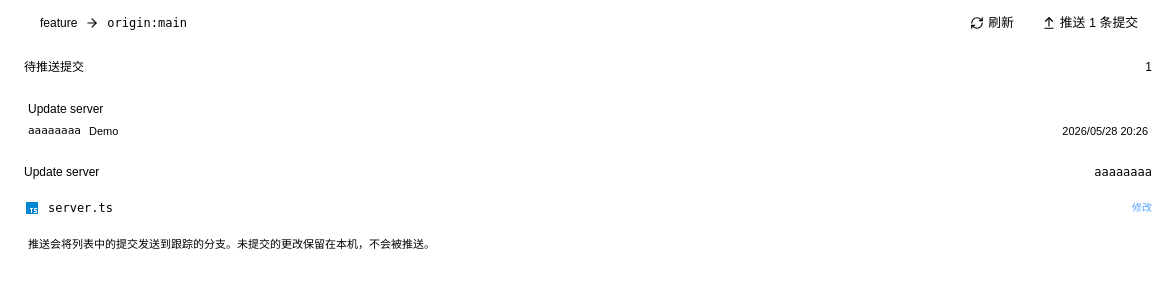
moves files into the commit column, compares committed revisions, and restores the list in zh
The width and height of the screenshot is (1176, 302).
Click the button "server.ts 修改".
click(81, 208)  # box [12,192,1164,224]
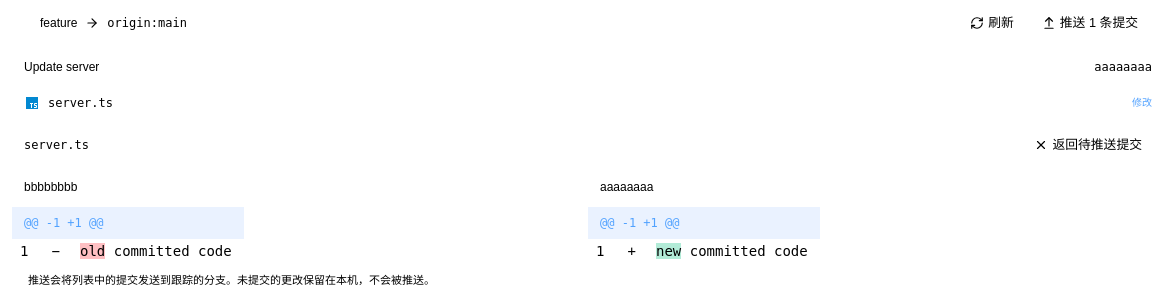
Check: the text "aaaaaaaa" in the row of "bbbbbbbb" is shown, box [600,180,653,194]
Check: the text "bbbbbbbb" is shown, box [24,180,77,194]
Click the button "返回待推送提交".
click(1088, 145)  # box [1024,131,1152,159]
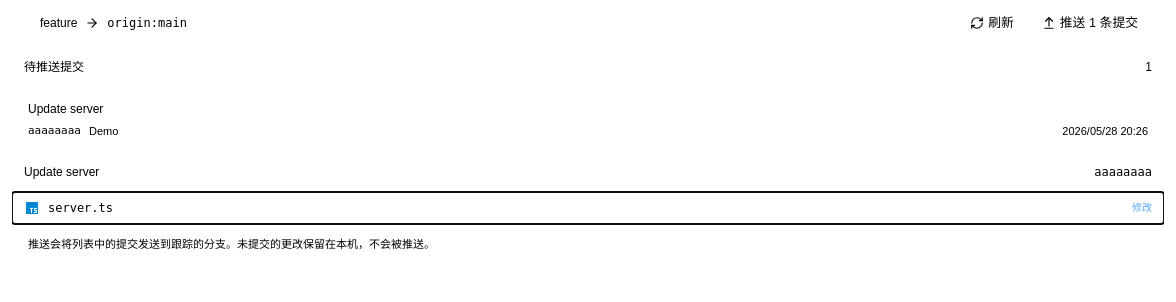
Check: the element "待推送提交" is shown, box [12,51,1164,156]
